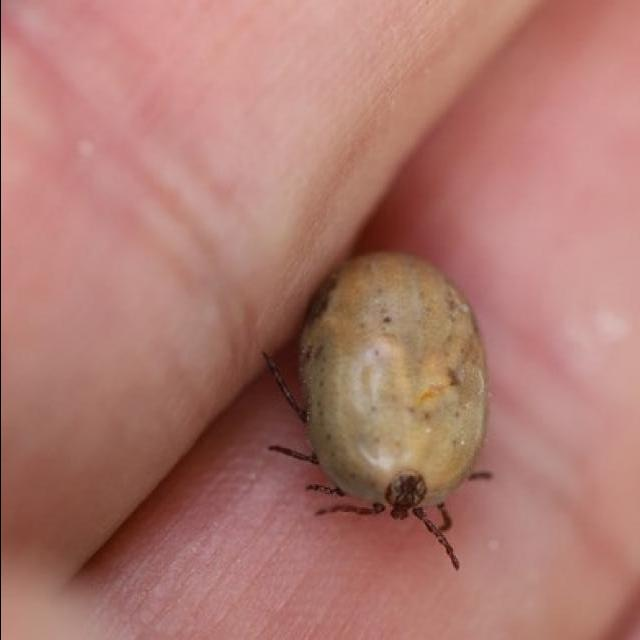Dermacentor Reticulatus-F-Fed: (260, 251, 493, 571)
